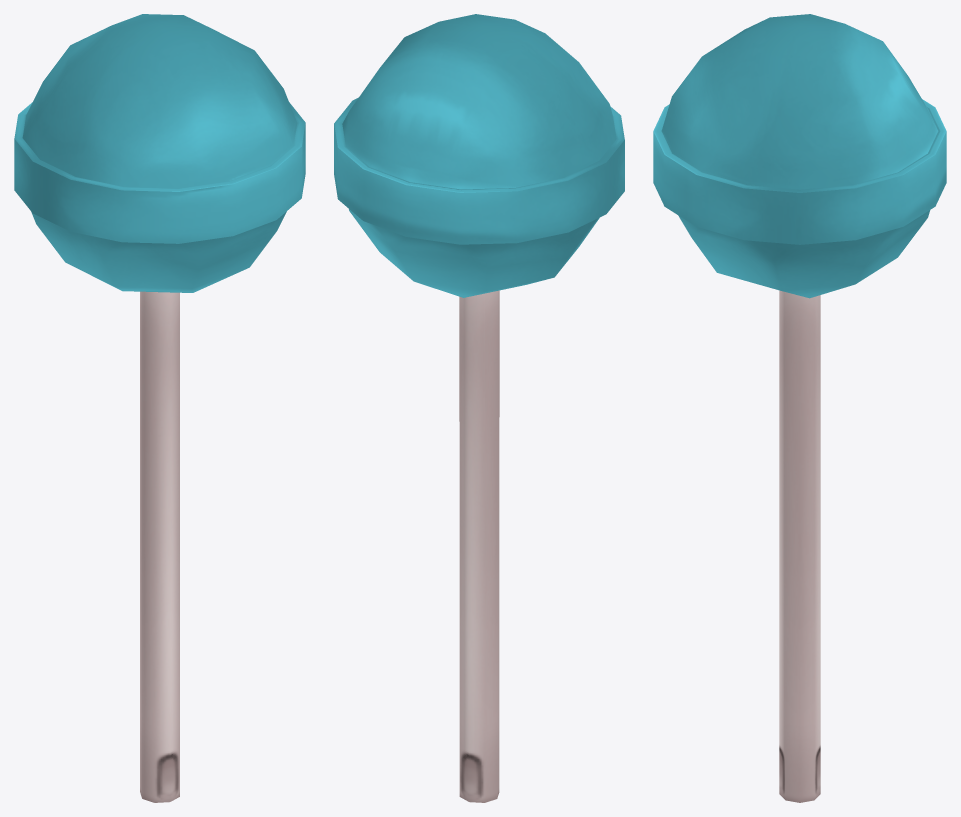
Rendered from Lolipop4.glb.
The picture shows the model from 3 angles, left to right: view 1: azimuth 30°, elevation 25°; view 2: azimuth 150°, elevation 25°; view 3: azimuth 270°, elevation 25°; orthographic projection.
Visible parts, largest first — view 1: Object_8.002; view 2: Object_8.002; view 3: Object_8.002.
Part boxes in pixels (x1=…): Object_8.002: x1=14, y1=14, x2=305, y2=802; Object_8.002: x1=334, y1=14, x2=624, y2=802; Object_8.002: x1=653, y1=14, x2=946, y2=802.
Size of the model in its own units: 0.0752 by 0.2174 by 0.0752.
Materials: 1 (1 with a texture image).
